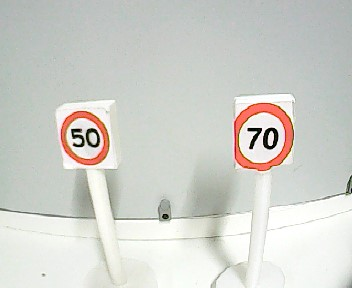50-bord: (61, 111, 109, 166)
70-bord: (234, 103, 295, 169)
